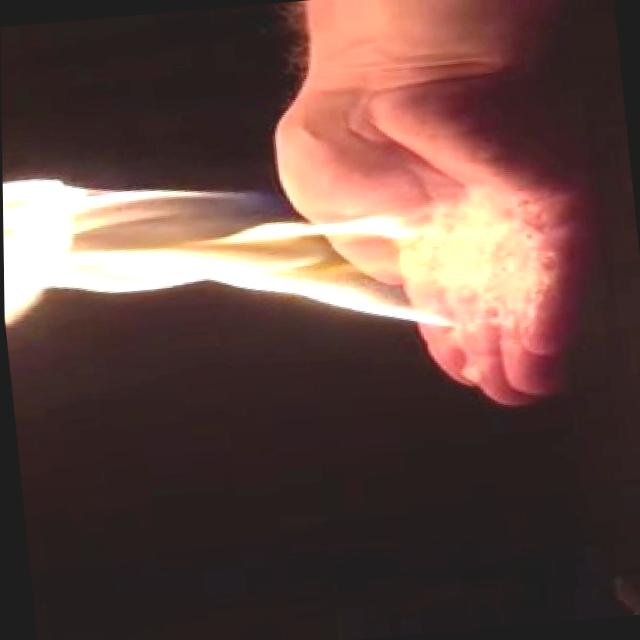no_helmet: (2, 130, 501, 376)
